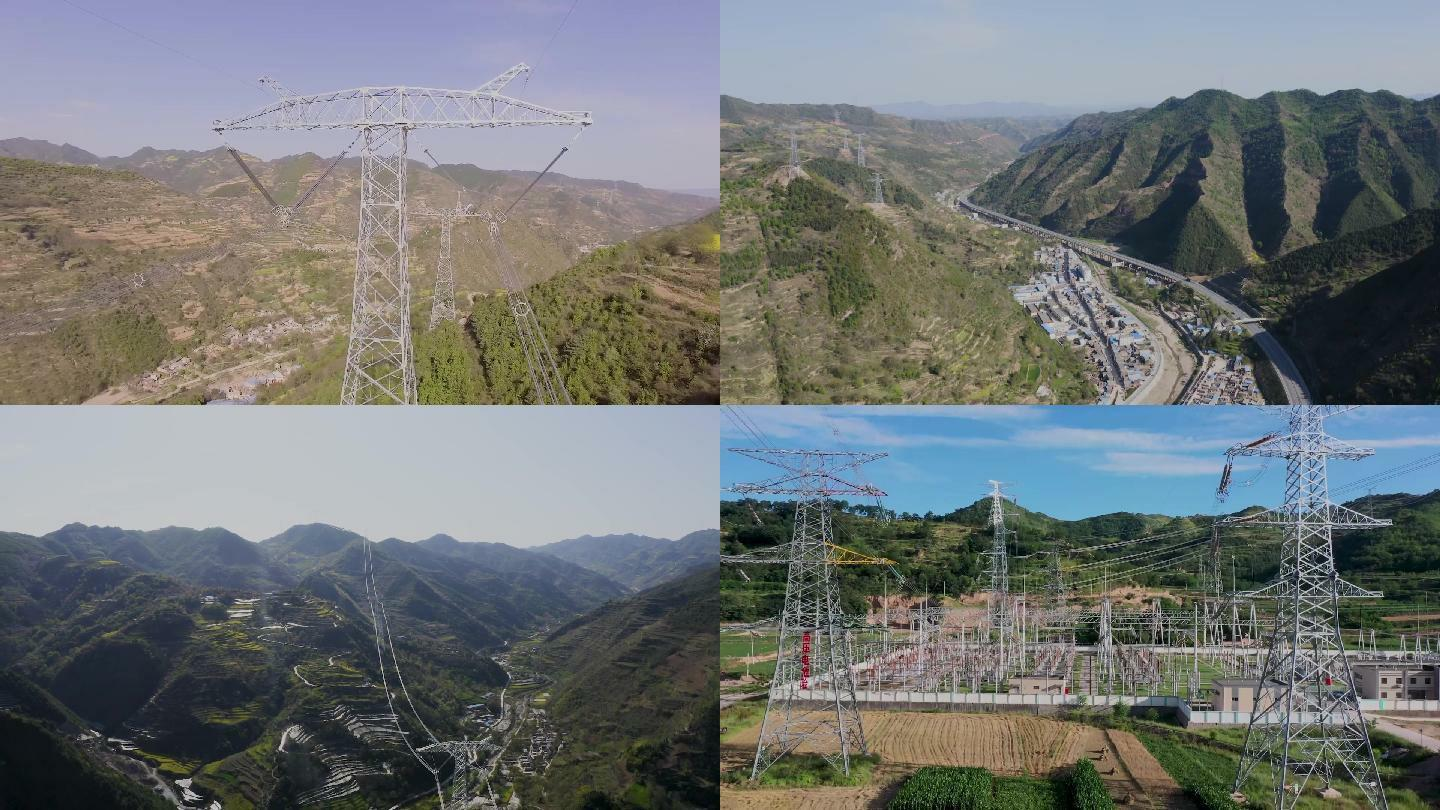power_tower: (206, 63, 597, 423), (1214, 409, 1399, 810), (732, 448, 894, 784), (786, 122, 811, 183), (861, 164, 893, 211)
